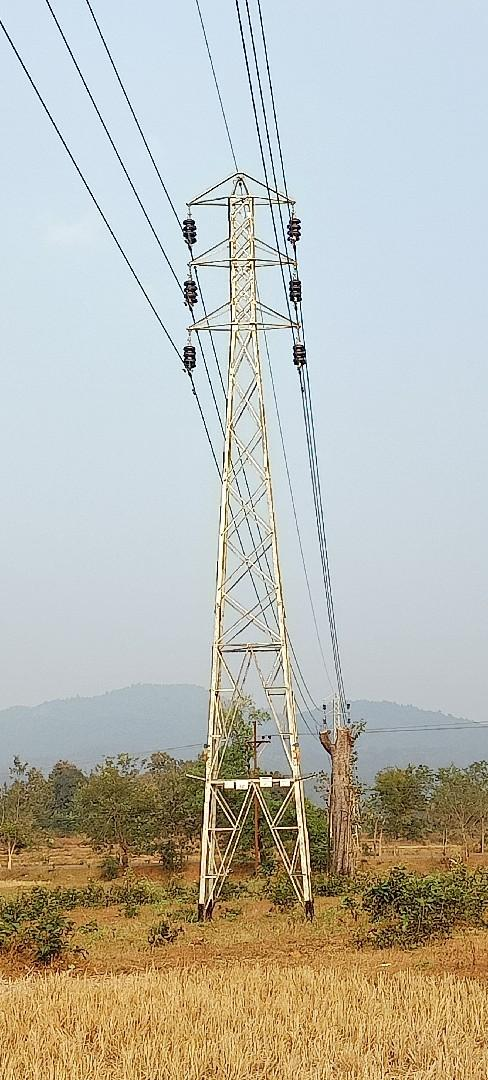GSM Antenna: (178, 164, 321, 883)
